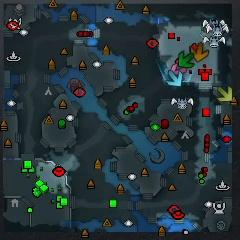x1: (172, 63, 187, 77)
x2: (216, 86, 233, 103)
x3: (166, 70, 183, 86)
x4: (179, 51, 194, 68)
x5: (190, 43, 209, 61)
